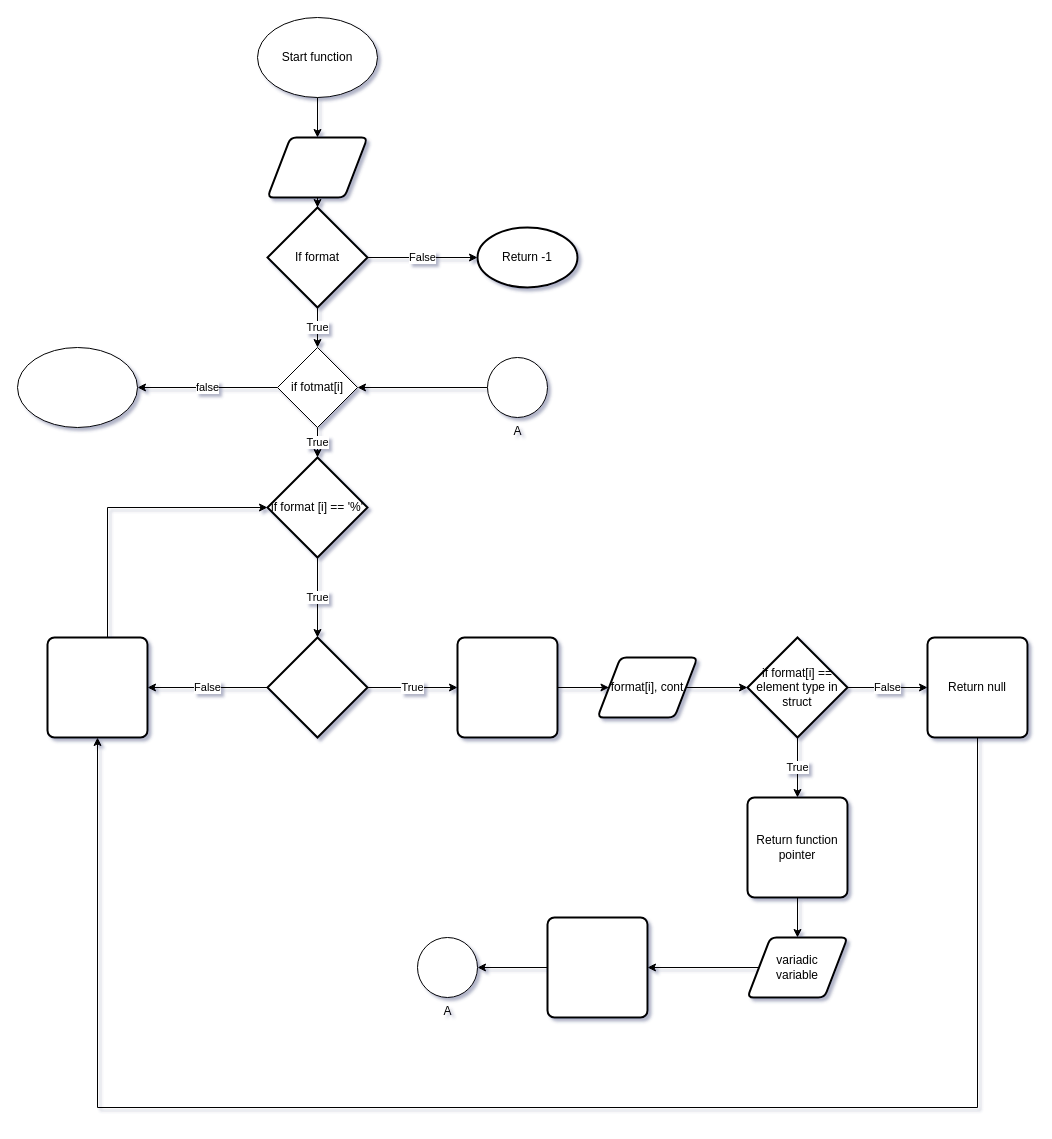
Image size: 1052x1139. Some labels were removed from this diagram. Here are the shapes that lost their labels. From the top down, the centre of each, then its label:
At pixel 317 167: "format, cont".
At pixel 77 387: "Return cont".
At pixel 97 687: "Write char in format[i], cont++, i++".
At pixel 317 687: "if format [i+1] == '%'".
At pixel 507 687: "Call get:func".
At pixel 597 967: "Write char in format[i + 1], cont++".
